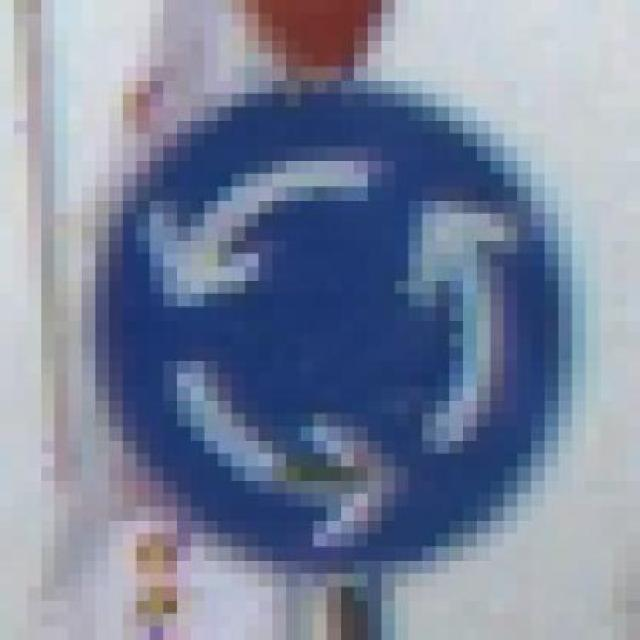Round-About: (55, 79, 599, 587)
